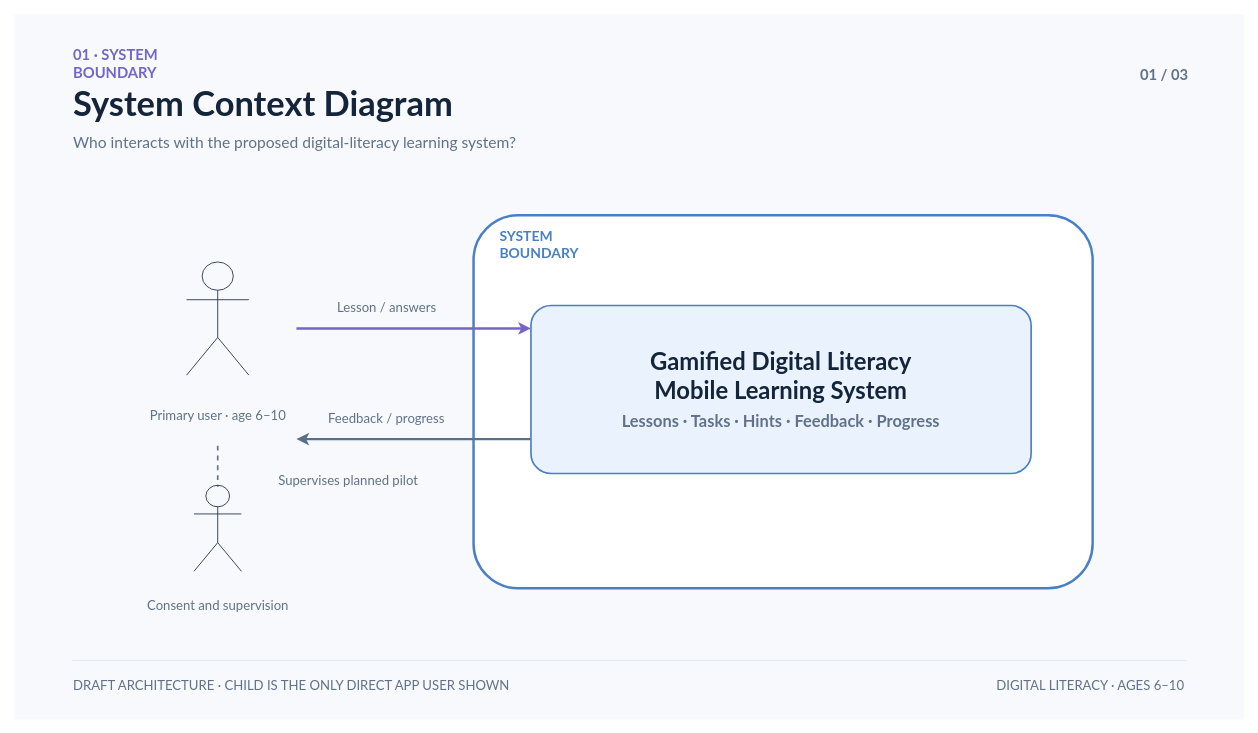
Some shapes in this 1258 by 733 pixel diagram are drawn without their labels. The shapes that lost their labels are listed below. From the top down, each one's centre as x and y in pixels, then its label:
At [217,318]: "Child".
At [217,527]: "Parent / guardian".
